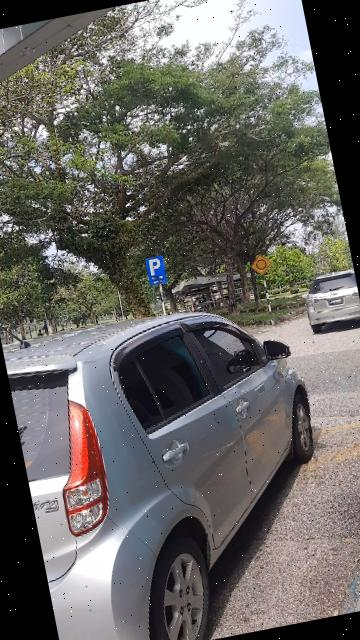License_Plate: (326, 296, 345, 309)
car: (3, 287, 360, 640), (299, 268, 360, 334)
